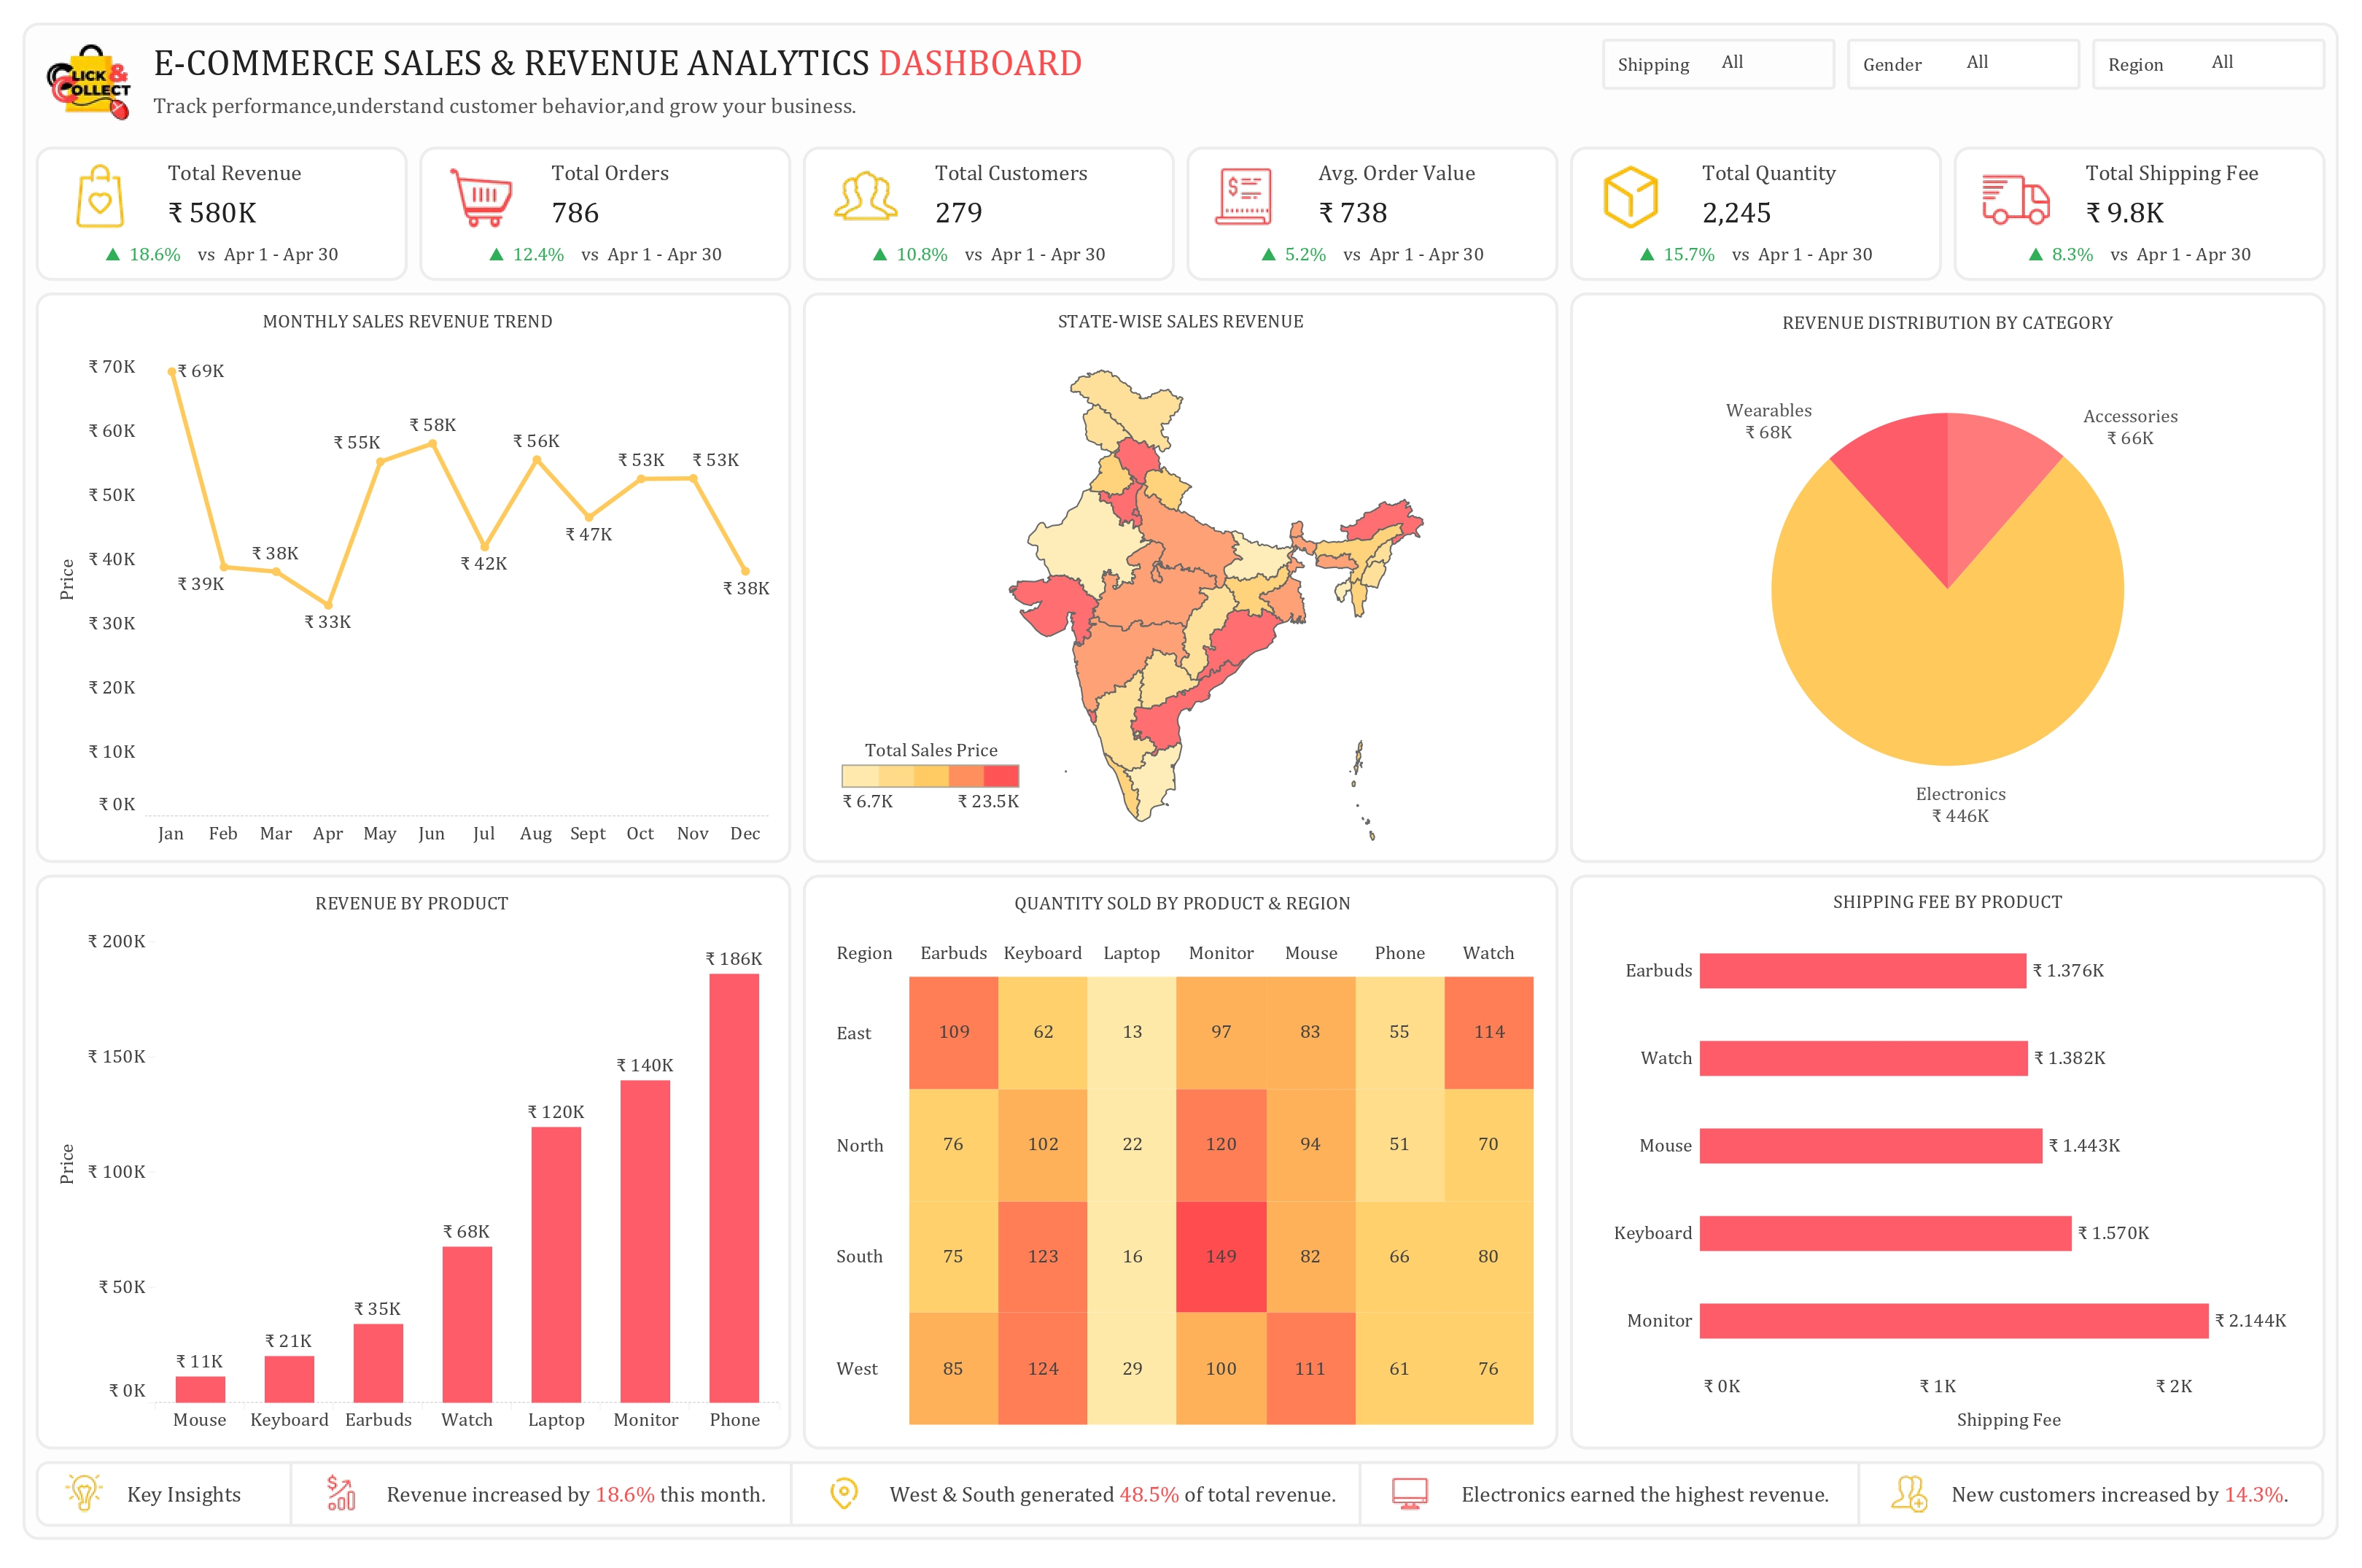

What the dashboard file says about the page in this screenshot:
{"tool":"tableau","page":{"name":"Dashboard","canvas":[1000,1000],"units":"permille","ordinal":0},"visuals":[{"type":"text","box":[58.6,13.9,406.5,37]},{"type":"image","param":"E:/Data Analysis Project/E-Commerce Sales Analytics/E-Commerce Icons/Logo.png","box":[14.3,16.7,37.4,55.6]},{"type":"filter","title":"H Bar","param":"[federated.0ayleav0sl8lny12bb3xj0fpppg4].[none:Shipping Status:nk]","box":[680.2,17.6,99.8,32.4]},{"type":"filter","title":"H Bar","param":"[federated.0ayleav0sl8lny12bb3xj0fpppg4].[none:Gender:nk]","box":[784.9,17.6,99.8,32.4]},{"type":"filter","title":"H Bar","param":"[federated.0ayleav0sl8lny12bb3xj0fpppg4].[none:Region:nk]","box":[889.6,17.6,99.8,32.4]},{"type":"text","box":[58.6,46.3,306.1,27.8]},{"type":"text","box":[64.8,90.7,62.3,23.2]},{"type":"text","box":[228.8,90.7,62.3,23.2]},{"type":"text","box":[392.8,90.7,70.5,23.2]},{"type":"text","box":[556.7,90.7,73.6,23.2]},{"type":"text","box":[720.7,90.7,62.3,23.2]},{"type":"text","box":[884.7,90.7,81,23.2]},{"type":"image","param":"E:/Data Analysis Project/E-Commerce Sales Analytics/E-Commerce Icons/Revenue.png","box":[21.8,97.2,31.2,40.7]},{"type":"image","param":"E:/Data Analysis Project/E-Commerce Sales Analytics/E-Commerce Icons/Orders.png","box":[185.8,97.2,31.2,40.7]},{"type":"image","param":"E:/Data Analysis Project/E-Commerce Sales Analytics/E-Commerce Icons/Customers.p","box":[349.8,97.2,31.2,40.7]},{"type":"image","param":"E:/Data Analysis Project/E-Commerce Sales Analytics/E-Commerce Icons/Orders Valu","box":[513.7,97.2,27.4,40.7]},{"type":"image","param":"E:/Data Analysis Project/E-Commerce Sales Analytics/E-Commerce Icons/Shipping Fe","box":[841.6,97.2,31.2,42.6]},{"type":"image","param":"E:/Data Analysis Project/E-Commerce Sales Analytics/E-Commerce Icons/Quantity.pn","box":[677.7,98.2,29.9,39.8]},{"type":"text","box":[64.8,114.8,43,25]},{"type":"text","box":[228.8,114.8,43,25]},{"type":"text","box":[392.8,114.8,43,25]},{"type":"text","box":[556.7,114.8,43,25]},{"type":"text","box":[720.7,114.8,43,25]},{"type":"text","box":[884.7,114.8,43,25]},{"type":"text","box":[16.2,142.6,147.8,23.2]},{"type":"text","box":[180.2,142.6,147.8,23.2]},{"type":"text","box":[344.1,142.6,147.8,23.2]},{"type":"text","box":[508.1,142.6,147.8,23.2]},{"type":"text","box":[672.1,142.6,147.8,23.2]},{"type":"text","box":[836,142.6,147.8,23.2]},{"type":"worksheet","title":"Line","mark":"Line","rows":["Total Price"],"cols":["Order Date"],"box":[10.6,178.7,322.9,362]},{"type":"worksheet","title":"Pie","mark":"Pie","box":[338.5,178.7,322.9,362]},{"type":"worksheet","title":"Map","mark":"Automatic","box":[666.5,178.7,322.9,362]},{"type":"legend","title":"Map","param":"[federated.0ayleav0sl8lny12bb3xj0fpppg4].[sum:Total Price:qk]","box":[897.8,225.9,81,52.8]},{"type":"worksheet","title":"V Bar","mark":"Automatic","rows":["Total Price"],"cols":["Product Name"],"box":[10.6,548.1,322.9,364.8]},{"type":"worksheet","title":"Scatter","mark":"Automatic","rows":["Total Price"],"cols":["Quantity"],"box":[338.5,548.1,322.9,364.8]},{"type":"worksheet","title":"H Bar","mark":"Automatic","rows":["Product Name"],"cols":["Shipping Fee"],"box":[666.5,548.1,322.9,364.8]},{"type":"text","box":[47.4,926.9,56.7,28.7]},{"type":"text","box":[158.3,926.9,168.3,28.7]},{"type":"text","box":[373.4,926.9,198.2,28.7]},{"type":"text","box":[617.8,926.9,165.2,28.7]},{"type":"text","box":[827.3,926.9,149.6,28.7]},{"type":"image","param":"E:/Data Analysis Project/E-Commerce Sales Analytics/E-Commerce Icons/Key Insight","box":[18.7,928.7,24.9,24.1]},{"type":"image","param":"E:/Data Analysis Project/E-Commerce Sales Analytics/E-Commerce Icons/Revenue Hig","box":[128.4,928.7,24.9,24.1]},{"type":"image","param":"E:/Data Analysis Project/E-Commerce Sales Analytics/E-Commerce Icons/Region.png","box":[343.5,928.7,24.9,24.1]},{"type":"image","param":"E:/Data Analysis Project/E-Commerce Sales Analytics/E-Commerce Icons/Monitor.png","box":[585.4,928.7,24.9,24.1]},{"type":"image","param":"E:/Data Analysis Project/E-Commerce Sales Analytics/E-Commerce Icons/New Custome","box":[798.6,928.7,24.9,24.1]}]}

Visuals, with their boxes on the dashboard's canvas, which has no fixed pixel size, in thousandths of its width and height (x1, y1, x2, y2). These are canvas units, not pixel positions in the 2362x1568 screenshot, which may show the page scaled, cropped or inside an application window:
text: 59 14 465 51
image: 14 17 52 72
"H Bar" filter: 680 18 780 50
"H Bar" filter: 785 18 885 50
"H Bar" filter: 890 18 989 50
text: 59 46 365 74
text: 65 91 127 114
text: 229 91 291 114
text: 393 91 463 114
text: 557 91 630 114
text: 721 91 783 114
text: 885 91 966 114
image: 22 97 53 138
image: 186 97 217 138
image: 350 97 381 138
image: 514 97 541 138
image: 842 97 873 140
image: 678 98 708 138
text: 65 115 108 140
text: 229 115 272 140
text: 393 115 436 140
text: 557 115 600 140
text: 721 115 764 140
text: 885 115 928 140
text: 16 143 164 166
text: 180 143 328 166
text: 344 143 492 166
text: 508 143 656 166
text: 672 143 820 166
text: 836 143 984 166
"Line" worksheet (Line marks): 11 179 334 541
"Pie" worksheet (Pie marks): 338 179 661 541
"Map" worksheet: 666 179 989 541
"Map" legend: 898 226 979 279
"V Bar" worksheet: 11 548 334 913
"Scatter" worksheet: 338 548 661 913
"H Bar" worksheet: 666 548 989 913
text: 47 927 104 956
text: 158 927 327 956
text: 373 927 572 956
text: 618 927 783 956
text: 827 927 977 956
image: 19 929 44 953
image: 128 929 153 953
image: 344 929 368 953
image: 585 929 610 953
image: 799 929 824 953
